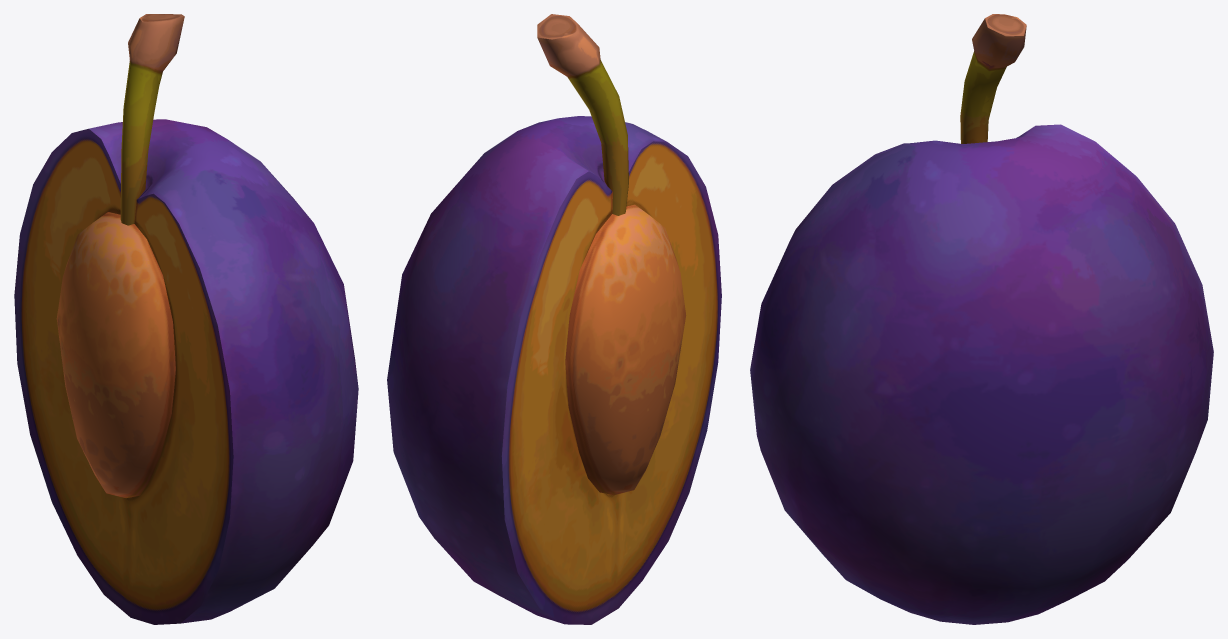
File: SM_PlumCutA.fbx
3 views of the same model, side by side, from view 1: azimuth 30°, elevation 25°; view 2: azimuth 150°, elevation 25°; view 3: azimuth 270°, elevation 25° (orthographic). The views are drawn at different scales.
Parts seen in each view (by area): view 1: SM_PlumCutA; view 2: SM_PlumCutA; view 3: SM_PlumCutA.
Part boxes in pixels (x1,y1,x2,y2): SM_PlumCutA: (14,14,358,624); SM_PlumCutA: (387,14,721,624); SM_PlumCutA: (750,14,1213,624).
Bounding box in the file's own units: 6.16 × 13.98 × 9.8.
